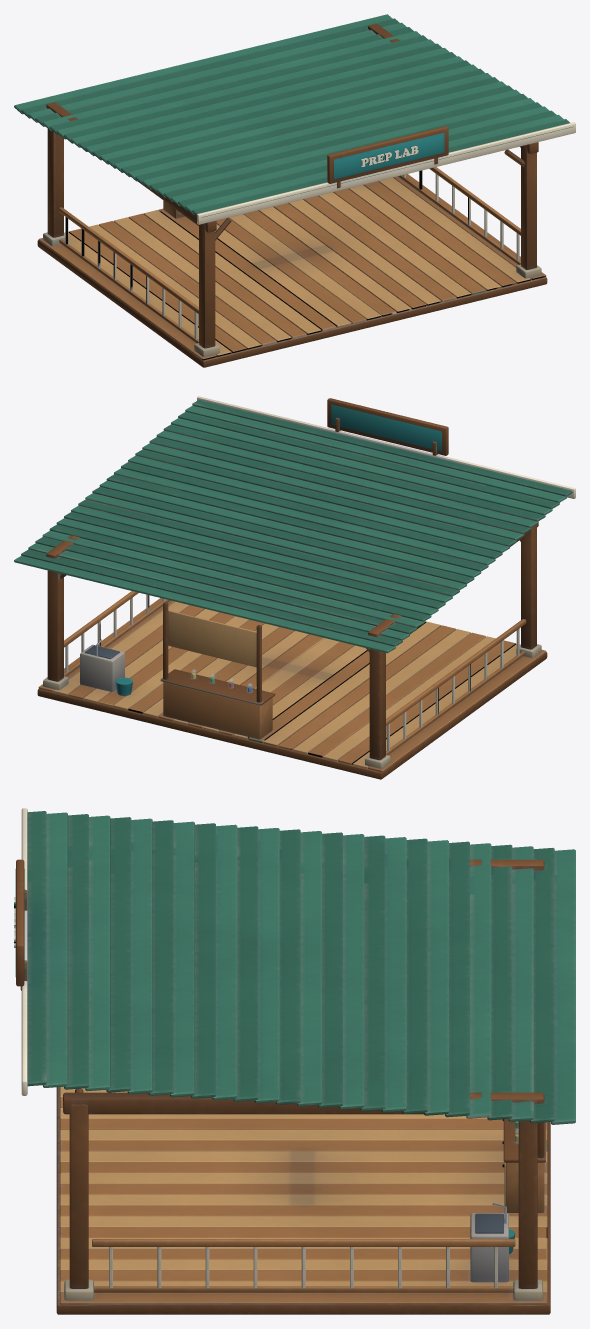
Rendered from lab_pavilion.glb.
3 views of the same model, one above another, from view 1: azimuth 30°, elevation 25°; view 2: azimuth 150°, elevation 25°; view 3: azimuth 270°, elevation 25° (orthographic). The views are drawn at different scales.
Parts seen in each view (by area): view 1: SM_LabPavilion; view 2: SM_LabPavilion; view 3: SM_LabPavilion.
Boxes of the visible parts, x1,y1,x2,y2 form: SM_LabPavilion: (14, 14, 575, 367); SM_LabPavilion: (14, 396, 575, 779); SM_LabPavilion: (14, 808, 575, 1314).
Size of what is drawn, in the model's own units: 10.1 by 4.97 by 8.76.
Materials: 3 (1 with a texture image).
